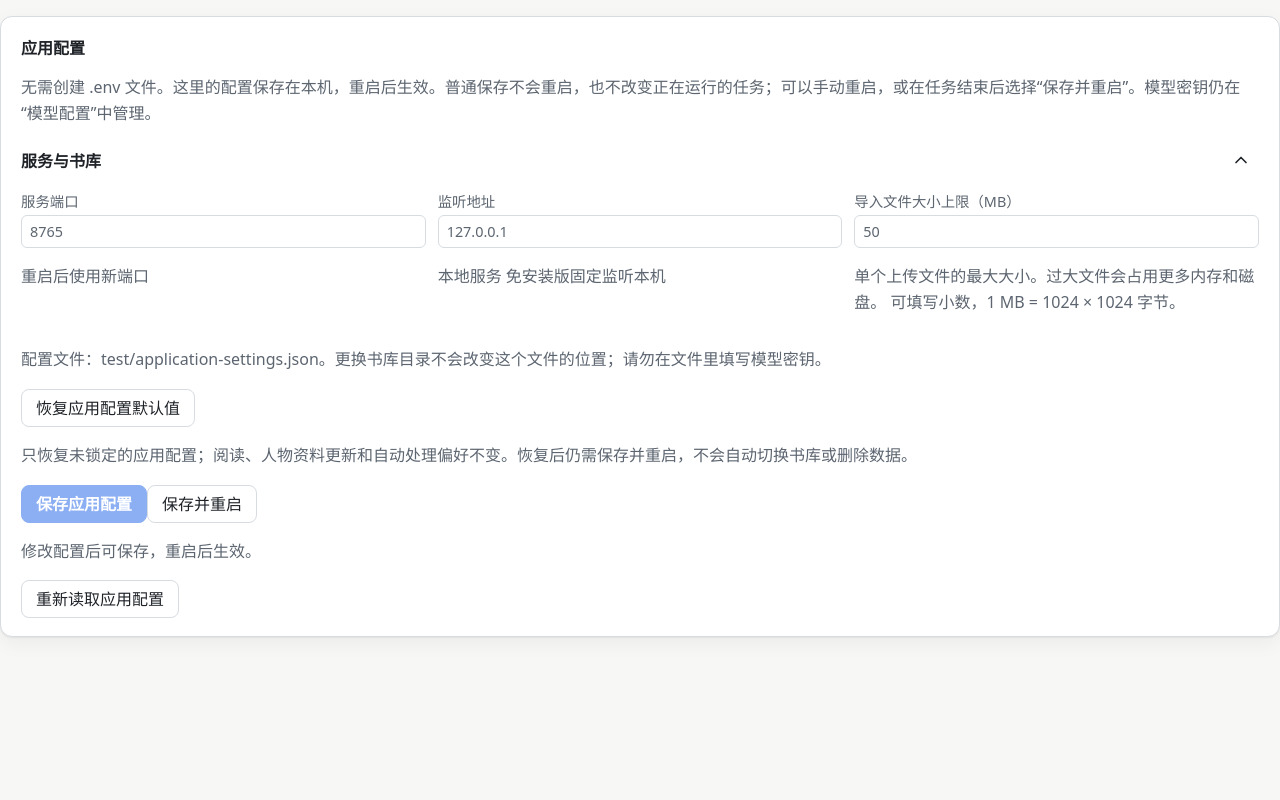
it: max_import_bytes 使用MB展示、范围和小数输入，保存仍使用整数字节
The image size is (1280, 800).
Replace the text in the number field labelled "导入文件大小上限（MB）" with "100.5" at (1057,232), box [854,215,1259,248]
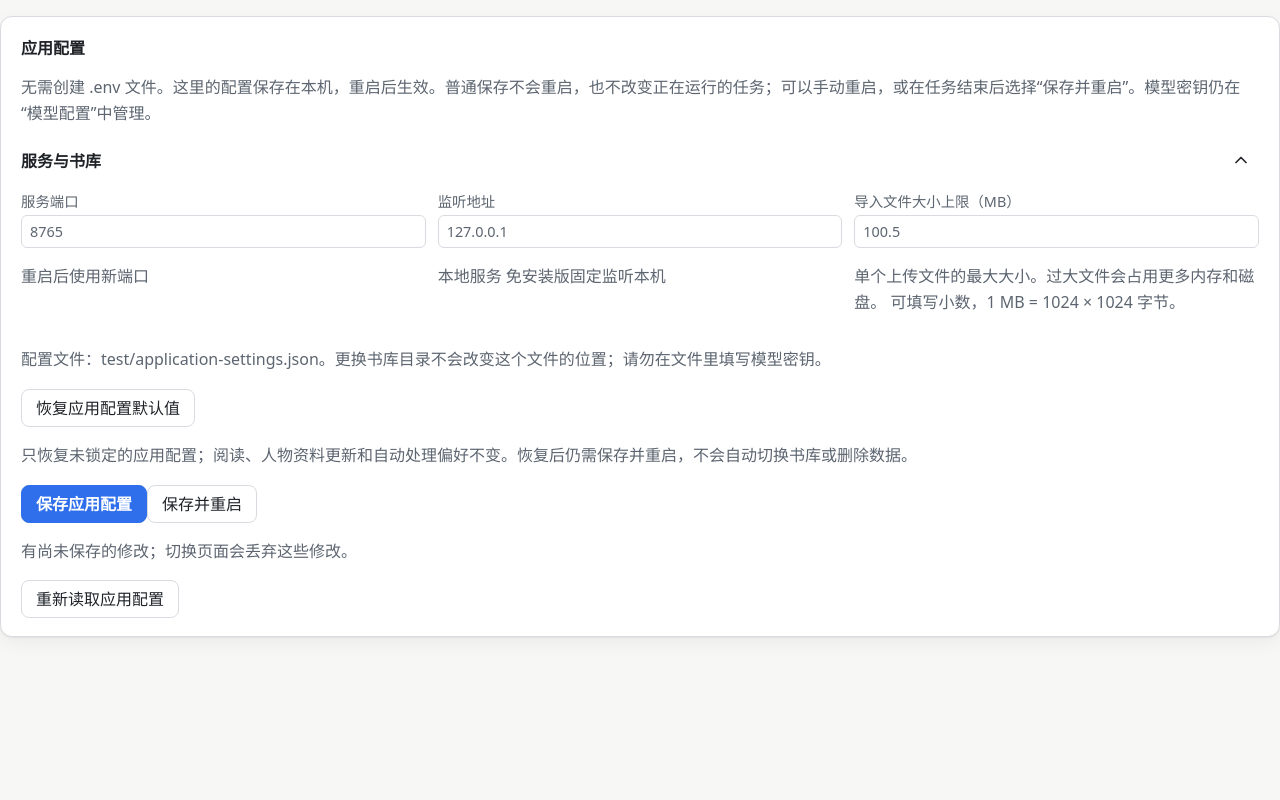
Click the button "保存应用配置" at (84,504), box [21,485,147,523]
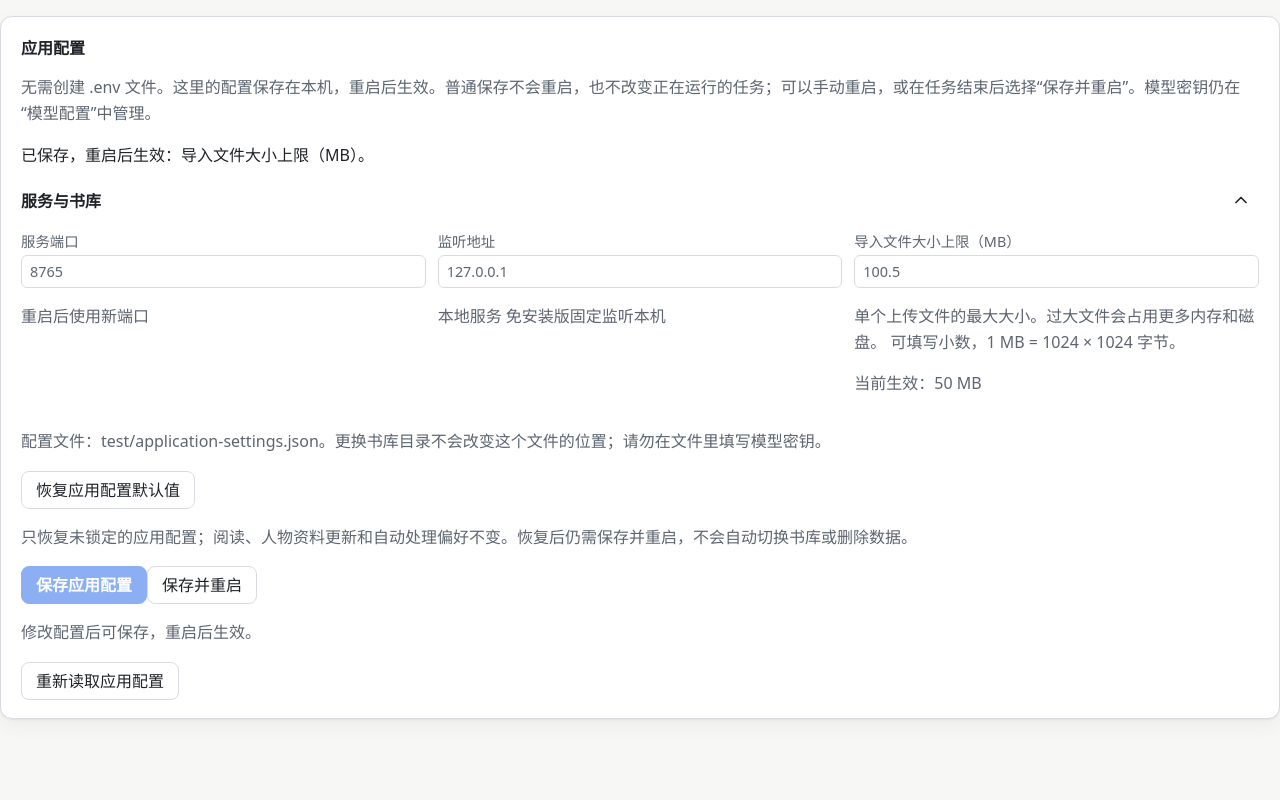
Expected: the text "已保存，重启后生效：导入文件大小上限（MB）。" is shown, [21,144,374,166]
